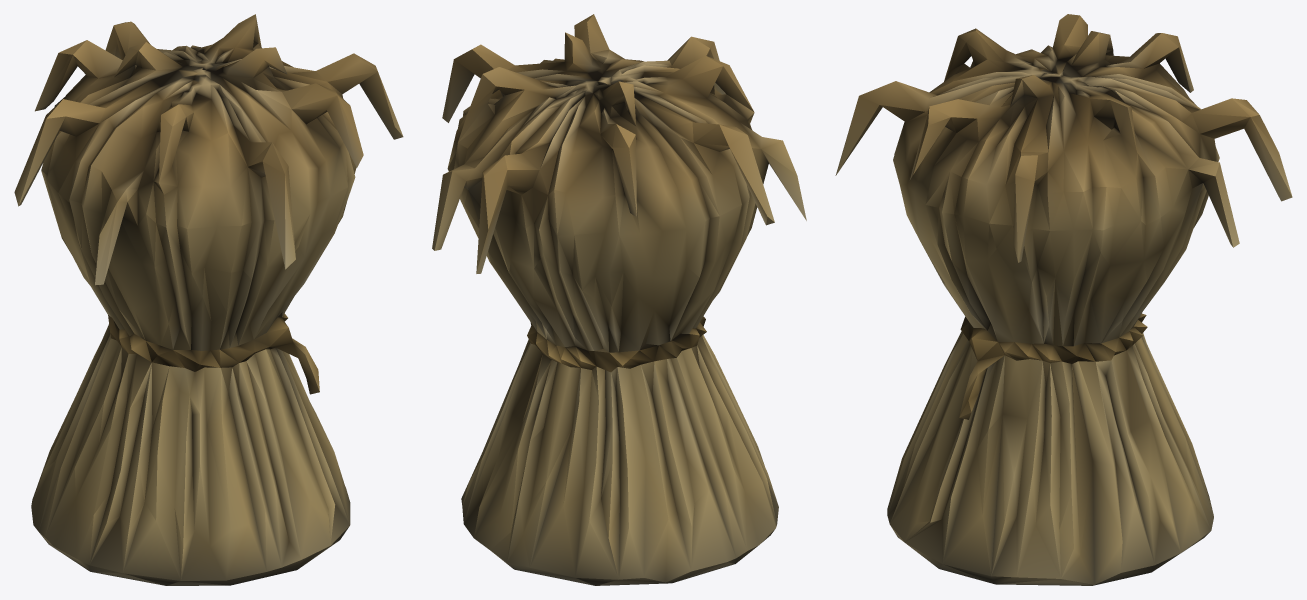
Rendered from hay_sheaf.glb.
The picture shows the model from 3 angles, left to right: view 1: azimuth 30°, elevation 25°; view 2: azimuth 150°, elevation 25°; view 3: azimuth 270°, elevation 25°; orthographic projection. The views are drawn at different scales.
Parts seen in each view (by area): view 1: hay_sheaf_LOD0; view 2: hay_sheaf_LOD0; view 3: hay_sheaf_LOD0.
Boxes of the visible parts, left/top/right/bottom form: hay_sheaf_LOD0: left=14, top=14, right=403, bottom=585; hay_sheaf_LOD0: left=432, top=14, right=806, bottom=585; hay_sheaf_LOD0: left=835, top=14, right=1292, bottom=585.
Size of what is drawn, in the model's own units: 0.8134 by 1.01 by 0.8756.
